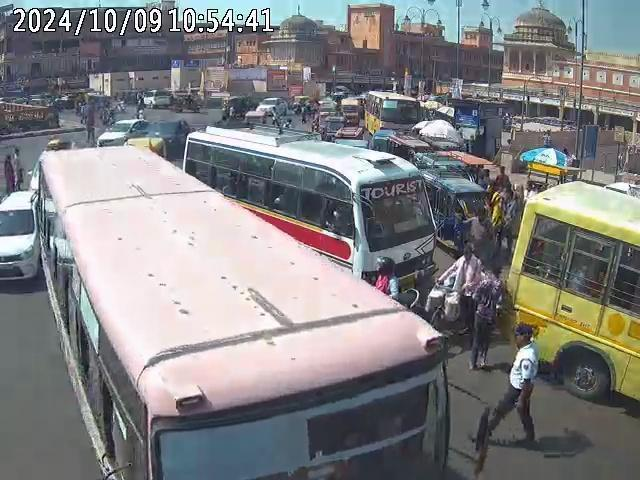bus: (35, 144, 451, 480), (178, 128, 439, 290), (503, 180, 640, 400), (362, 90, 421, 137)
car: (0, 188, 39, 287), (95, 118, 147, 148), (257, 96, 289, 113)
person: (507, 322, 540, 445), (471, 268, 501, 368)
